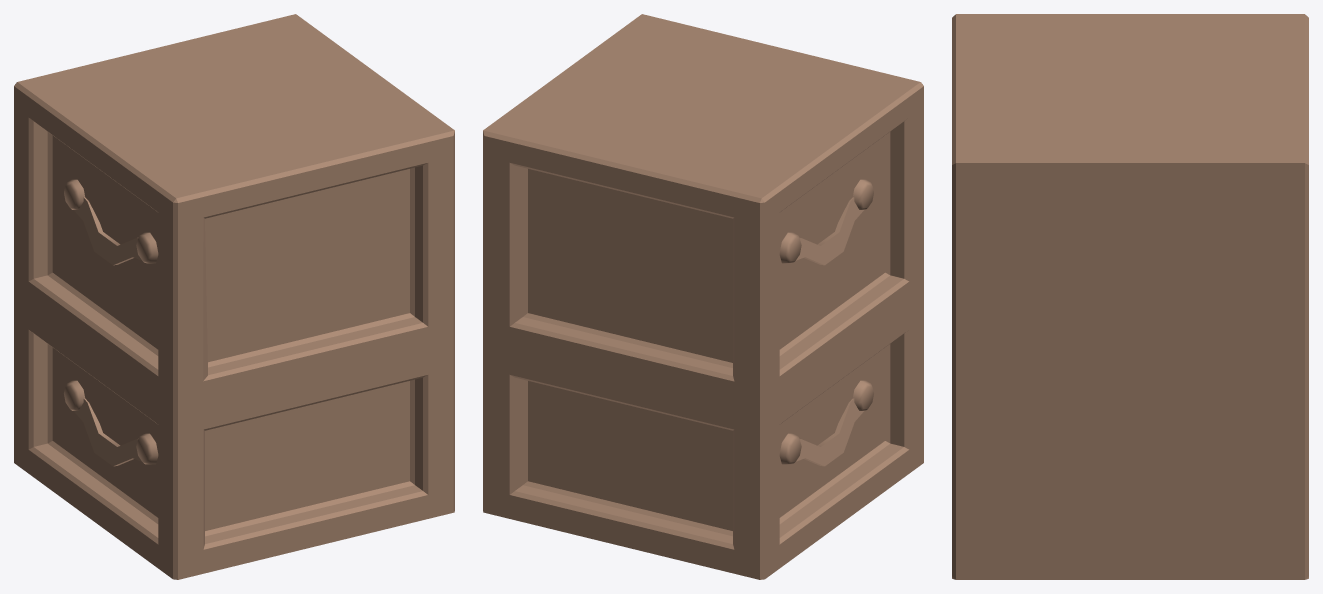
The model's file is SM_BedsideTable.fbx.
The picture shows the model from 3 angles, left to right: view 1: azimuth 30°, elevation 25°; view 2: azimuth 150°, elevation 25°; view 3: azimuth 270°, elevation 25°; orthographic projection. The views are drawn at different scales.
Visible parts, largest first — view 1: SM_BedsideTable; view 2: SM_BedsideTable; view 3: SM_BedsideTable.
Part boxes in pixels (<box>): SM_BedsideTable: <box>14,14,454,579</box>; SM_BedsideTable: <box>483,14,923,579</box>; SM_BedsideTable: <box>952,14,1308,579</box>.
Bounding box in the file's own units: 65.71 × 84.7 × 65.71.
